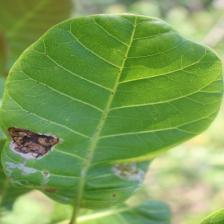leaf miner: (0, 123, 61, 162), (110, 159, 149, 183)
